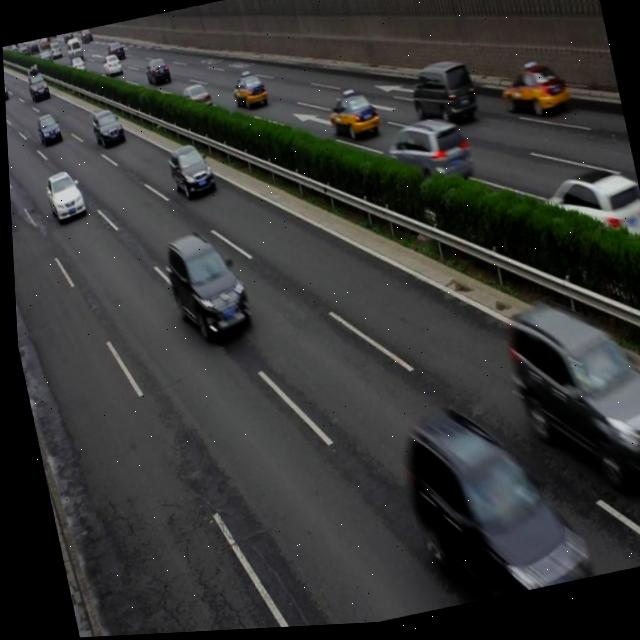car: (397, 399, 570, 606), (499, 289, 640, 502), (158, 225, 251, 350), (535, 168, 639, 268), (383, 117, 473, 203), (495, 62, 569, 129), (323, 89, 379, 149), (164, 141, 216, 205), (41, 167, 87, 227), (228, 72, 269, 117), (89, 106, 126, 153), (174, 83, 213, 124)
truck: (403, 58, 477, 135)
